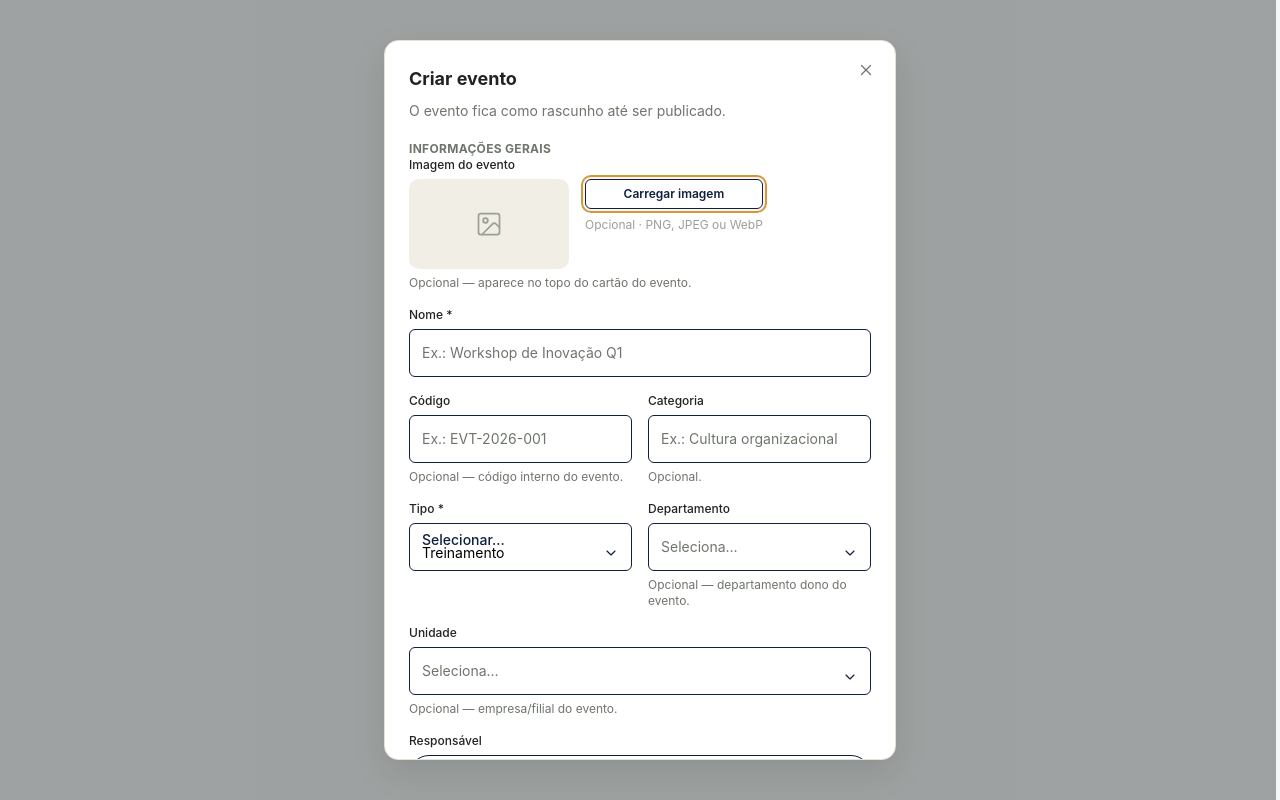
Test case: CreateEventModal › erro da API — mostra mensagem
Type "  Workshop Q1  " into the field labelled "Nome *" at (640,353), box [409, 329, 871, 377]
(page scrolled)
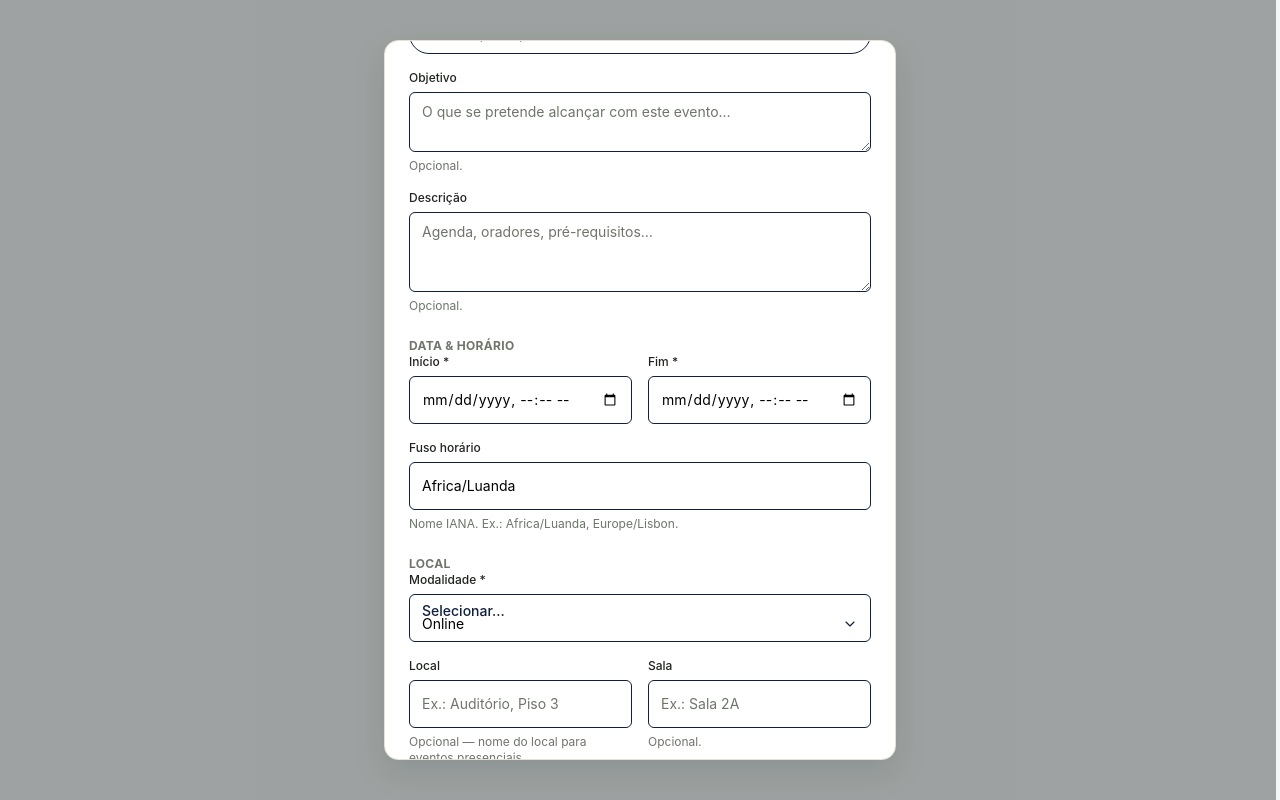
Type "2026-12-31T09:00" into the field labelled "Início *" at (520,400), box [409, 376, 632, 424]
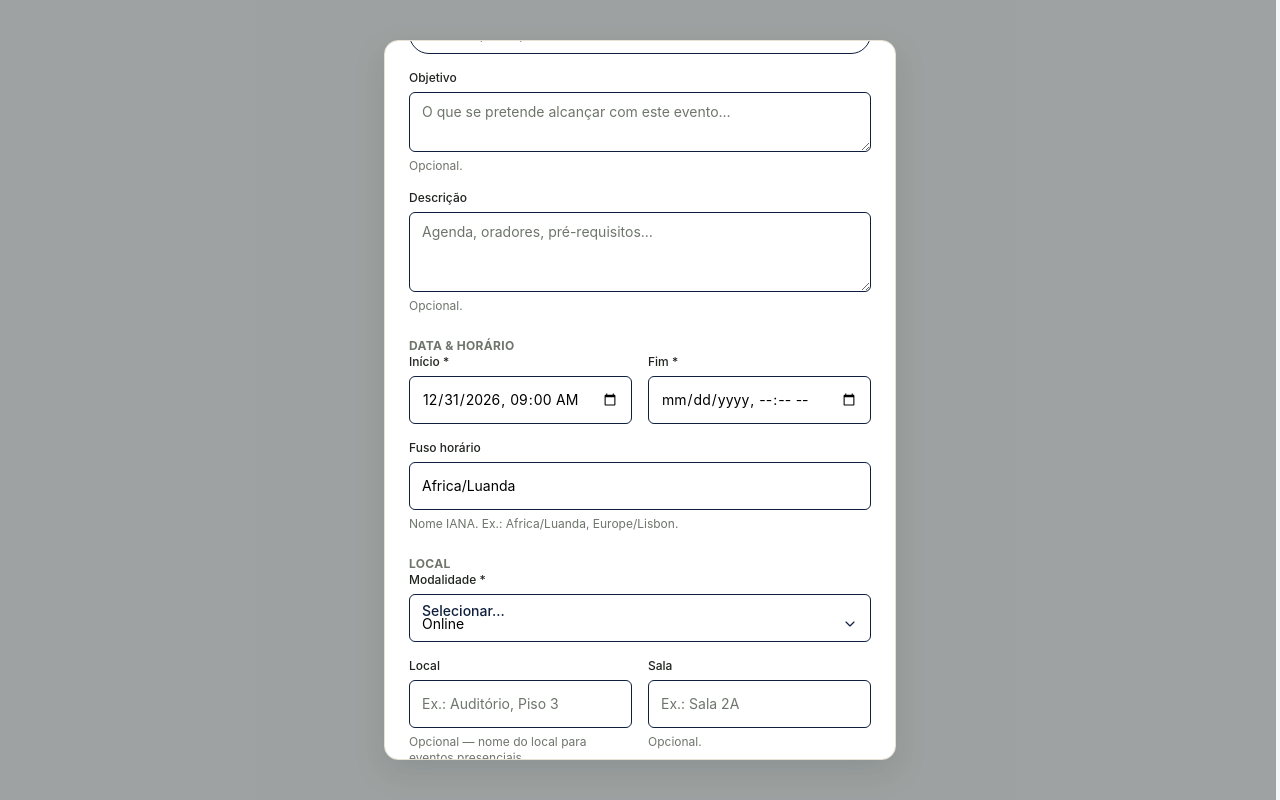
Type "2026-12-31T12:00" into the field labelled "Fim *" at (760,400), box [648, 376, 871, 424]
(page scrolled)
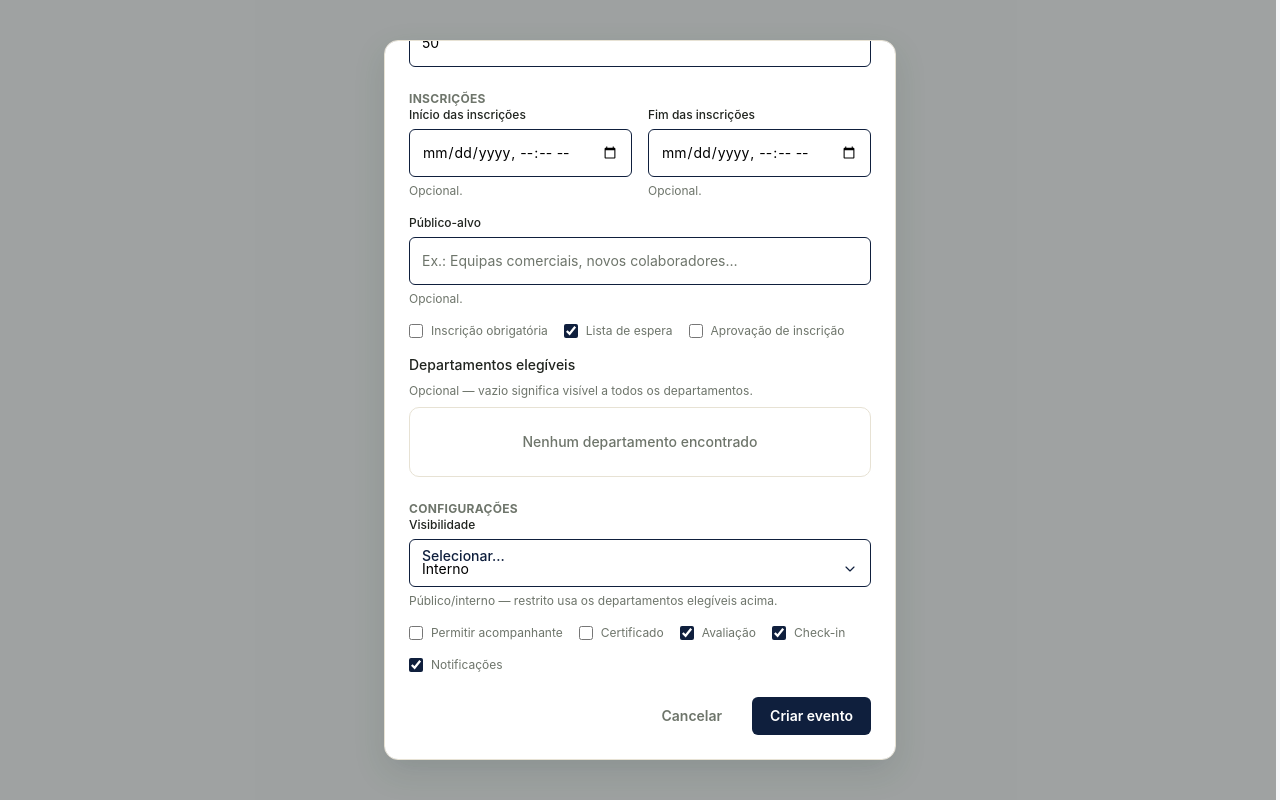
Click the button "Criar evento" at (812,716), box [752, 697, 871, 735]
(page scrolled)
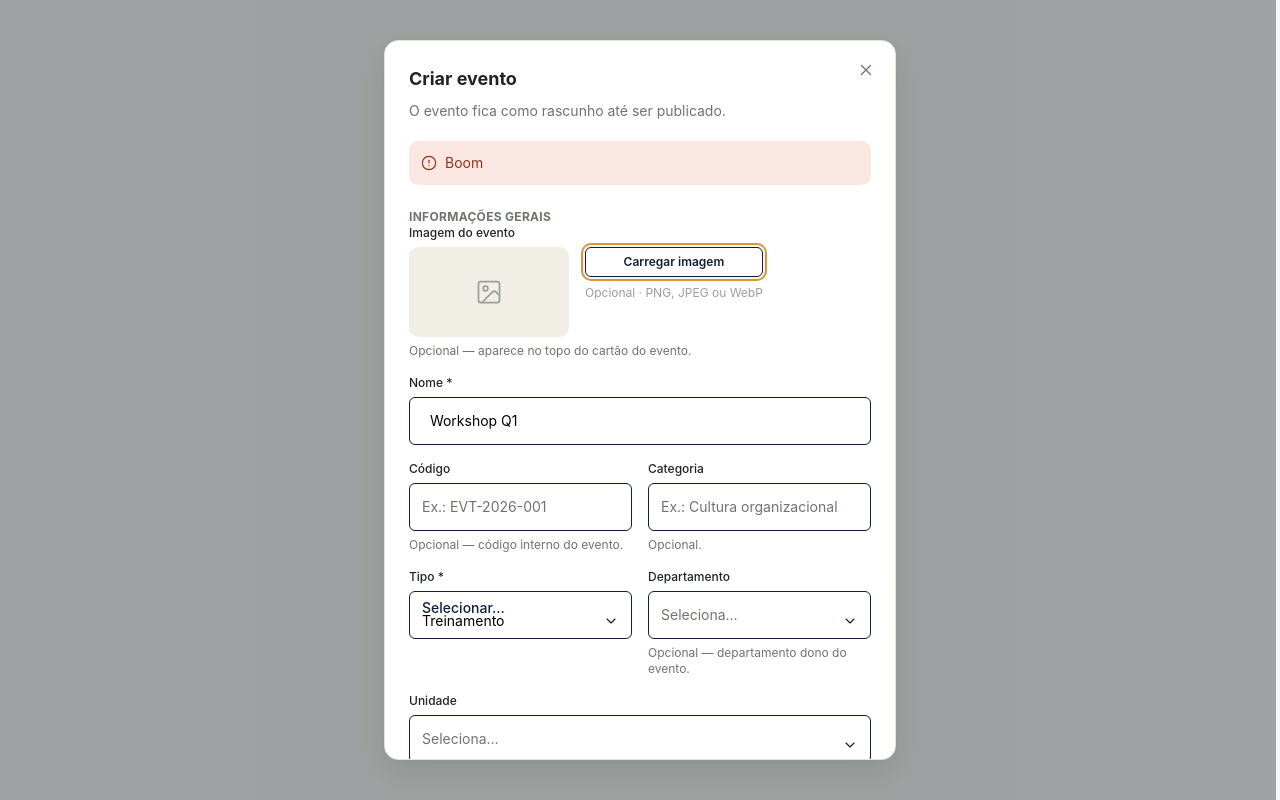
Expected: the text "Boom" is shown, [409, 141, 871, 185]
